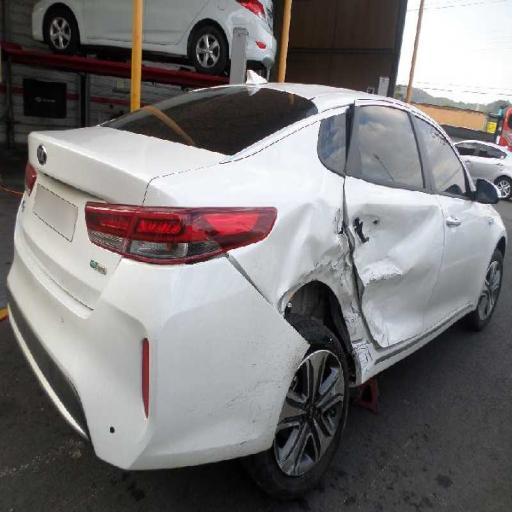dent: (252, 131, 459, 328)
scratch: (314, 224, 402, 364)
